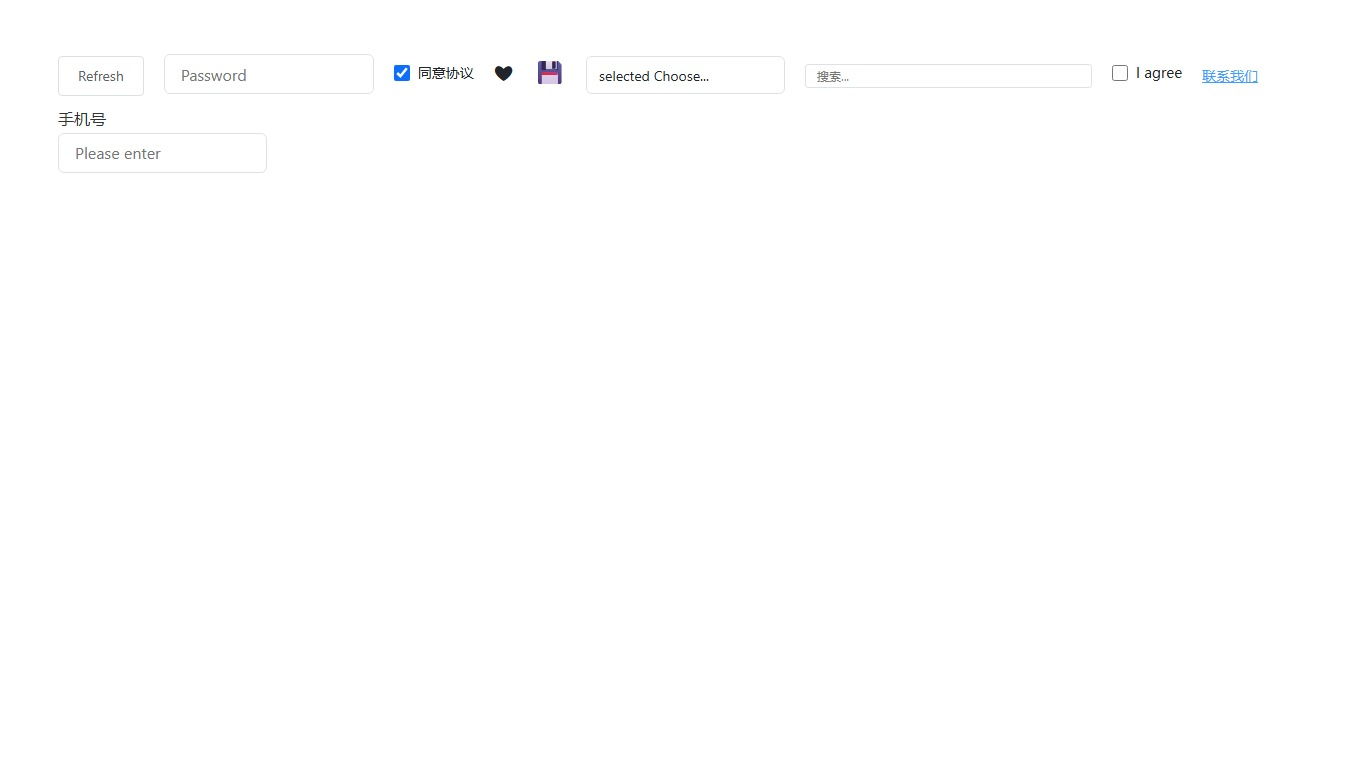button: (58, 55, 144, 95)
checkbox: (394, 65, 410, 80), (1112, 65, 1128, 80)
icon: (418, 63, 474, 82), (1136, 63, 1182, 82), (533, 59, 566, 83), (494, 62, 513, 83)
input: (164, 54, 374, 94), (58, 133, 267, 173), (805, 63, 1092, 87)
link: (1202, 65, 1258, 84)
radio: (394, 63, 474, 82), (1112, 63, 1182, 82)
select: (586, 56, 785, 94)
